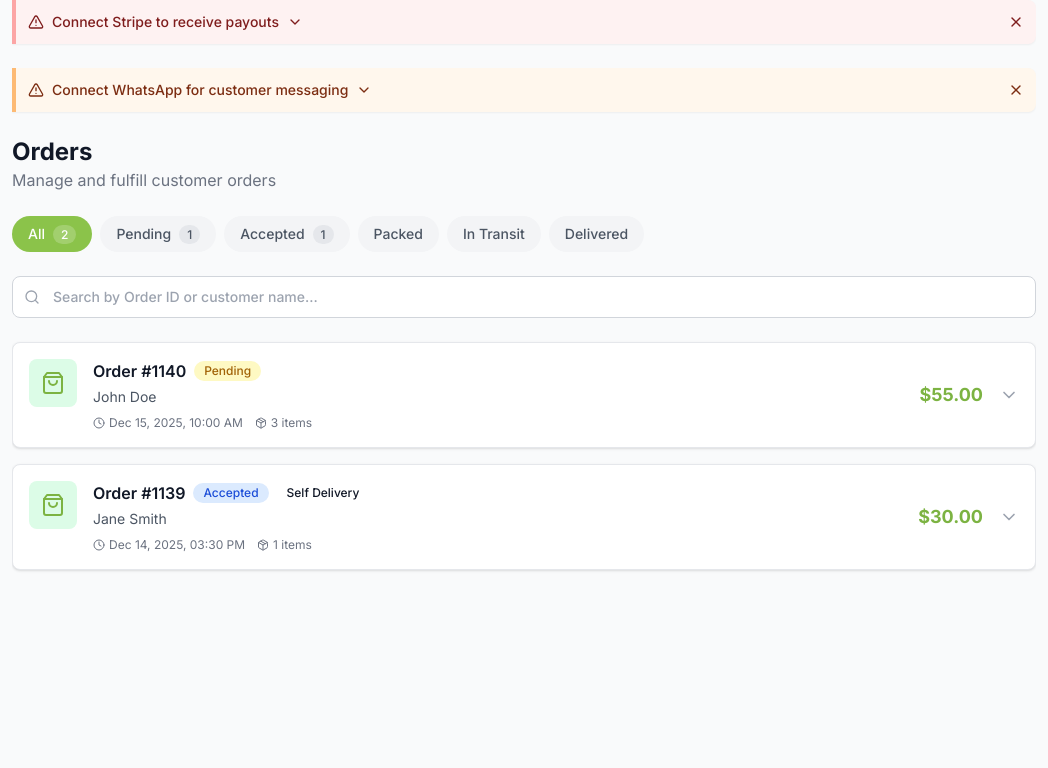
Scenario: OrdersPage › filters orders by search query
The width and height of the screenshot is (1048, 768).
Expected: the text "John Doe" is shown, 93,388 -> 156,405
Type "Jane" into the field with placeholder "Search by Order ID or customer name..." at (524, 297), box 12,276 -> 1036,318
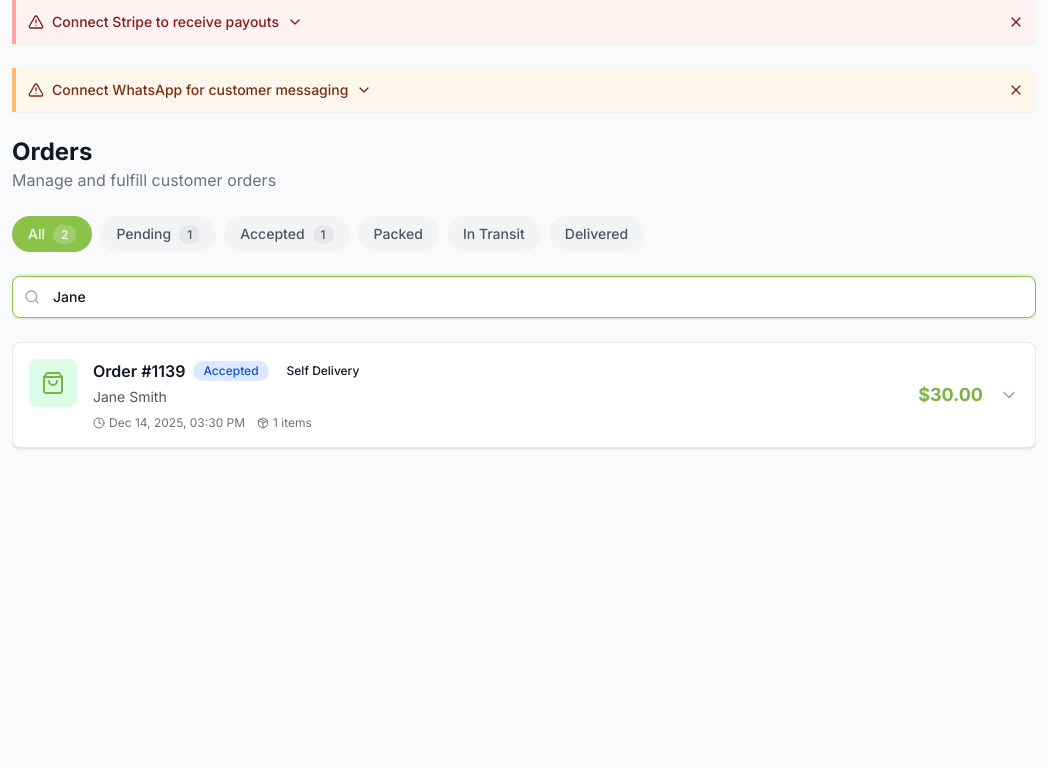
Expected: the text "Jane Smith" is shown, 93,388 -> 167,405
Expected: the text "John Doe" is gone
